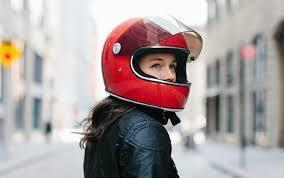helmet: (100, 12, 204, 112)
